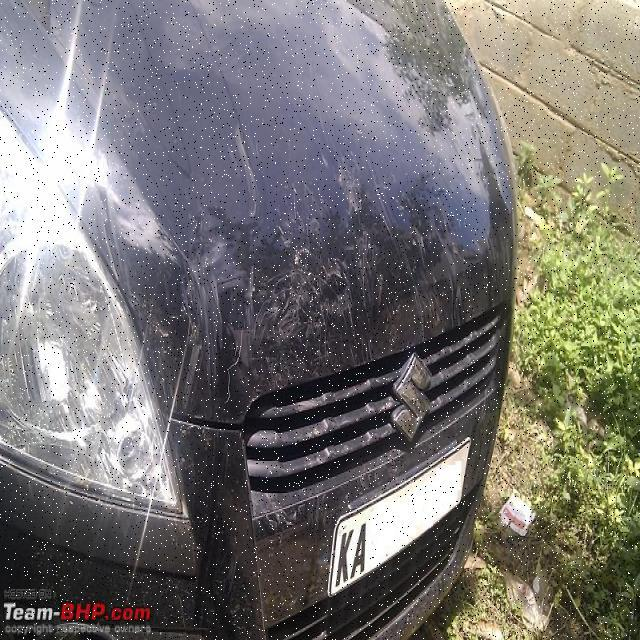bonnet-dent: (0, 0, 514, 479)
